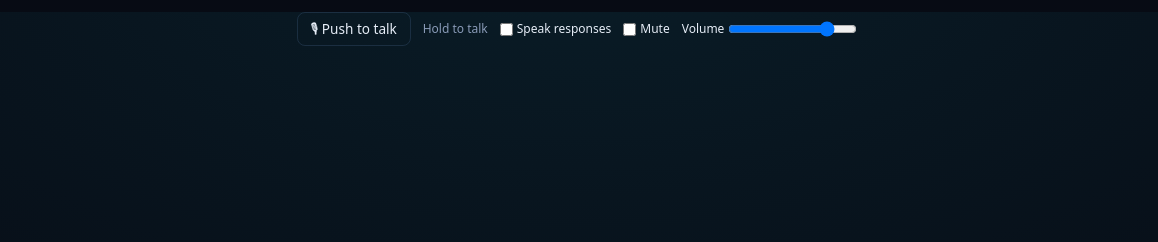
Test: VoiceControls › shows a denied state when the user blocks the microphone
Step 1. Press the mouse on the button "🎙 Push to talk" → (354, 29), box [297,12,411,46]
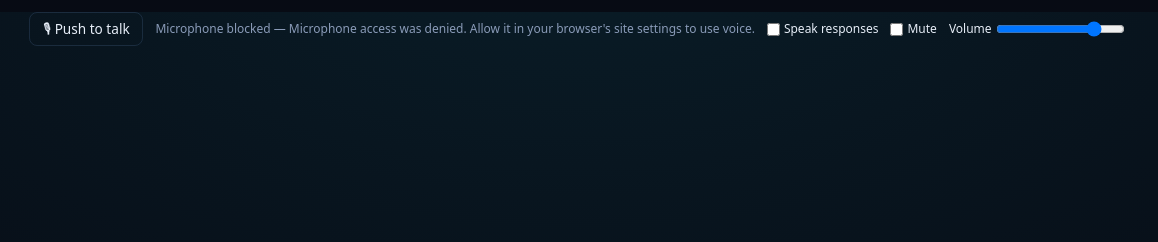
Now the text "Microphone access was denied" is shown, box [271,20,755,37]
